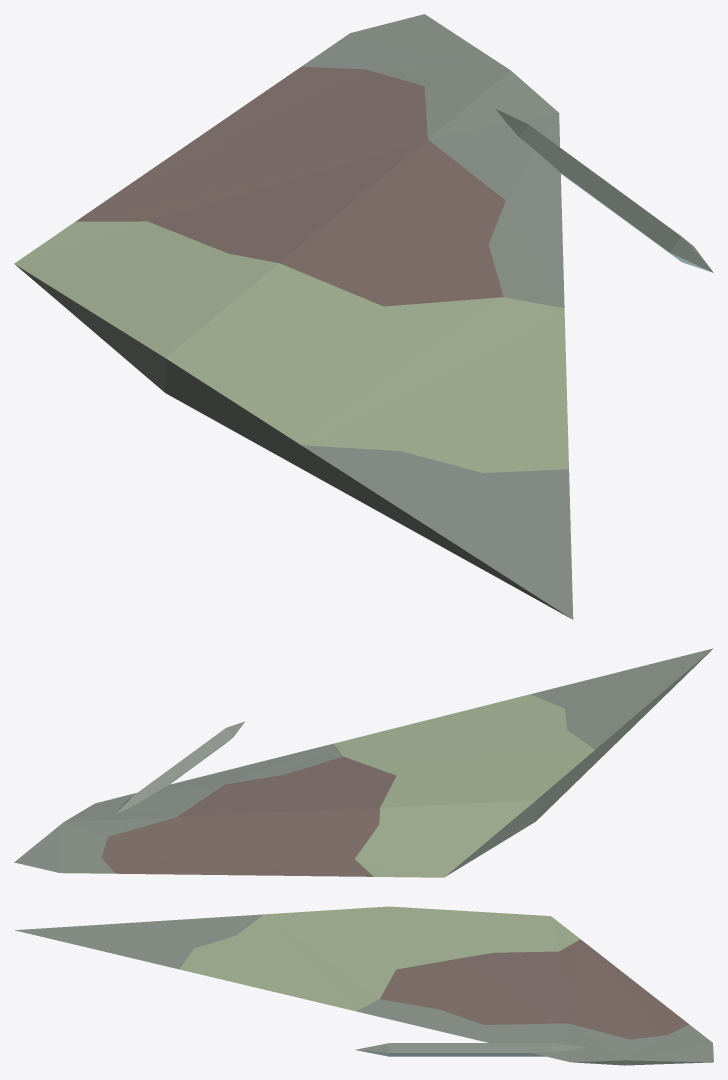
File: cold_war_planes_su_22m4_gdr_surf_elevatorLeft.gltf
The picture shows the model from 3 angles, top to bottom: view 1: azimuth 30°, elevation 25°; view 2: azimuth 150°, elevation 25°; view 3: azimuth 270°, elevation 25°; orthographic projection. The views are drawn at different scales.
Parts seen in each view (by area): view 1: 0_2_#60744c, 0_1_#424c42, 0_0_#392a26; view 2: 0_2_#60744c, 0_0_#392a26, 0_1_#424c42; view 3: 0_2_#60744c, 0_0_#392a26, 0_1_#424c42, 0_3_#87bec9.
Boxes of the visible parts, <box> form: 0_2_#60744c: <box>14,221,568,472</box>; 0_1_#424c42: <box>15,14,713,619</box>; 0_0_#392a26: <box>76,66,505,306</box>; 0_2_#60744c: <box>334,694,594,877</box>; 0_0_#392a26: <box>101,756,396,876</box>; 0_1_#424c42: <box>14,648,713,876</box>; 0_2_#60744c: <box>179,906,580,1011</box>; 0_0_#392a26: <box>380,939,688,1039</box>; 0_1_#424c42: <box>15,914,713,1065</box>; 0_3_#87bec9: <box>356,1050,545,1056</box>.
Bounding box in the file's own units: 1.69 × 0.1 × 3.4.
